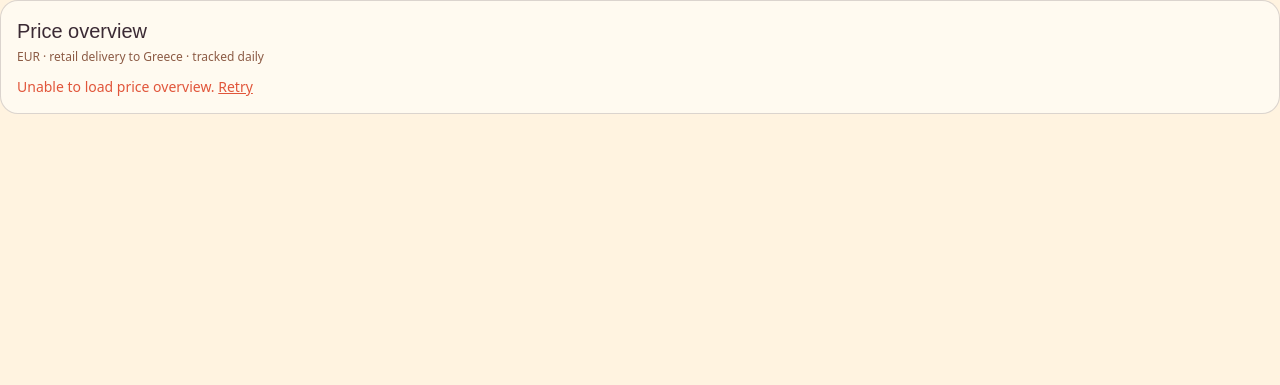
Game price overview › retries a failed overview request
Click the button "Retry" at (236, 87), box [218,77,253,97]
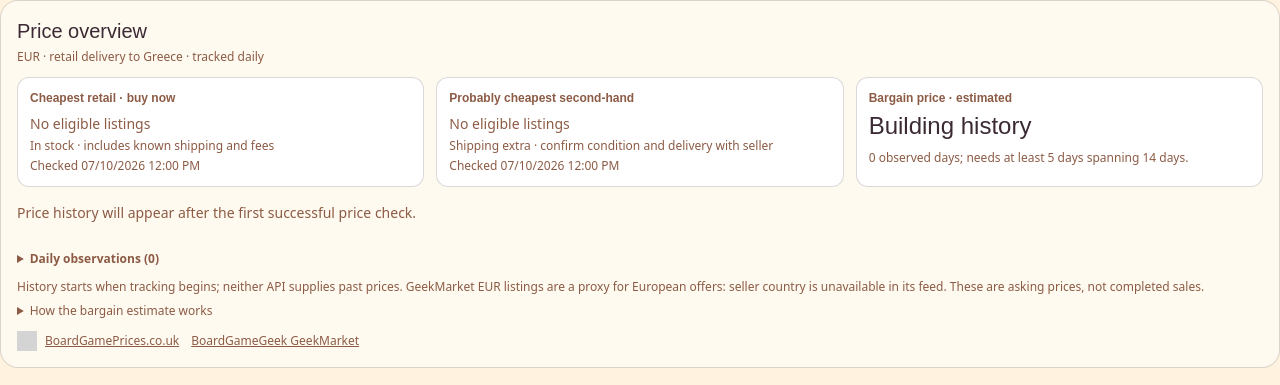
Check: the text "Building history" is shown, box [869,112,1032,139]
